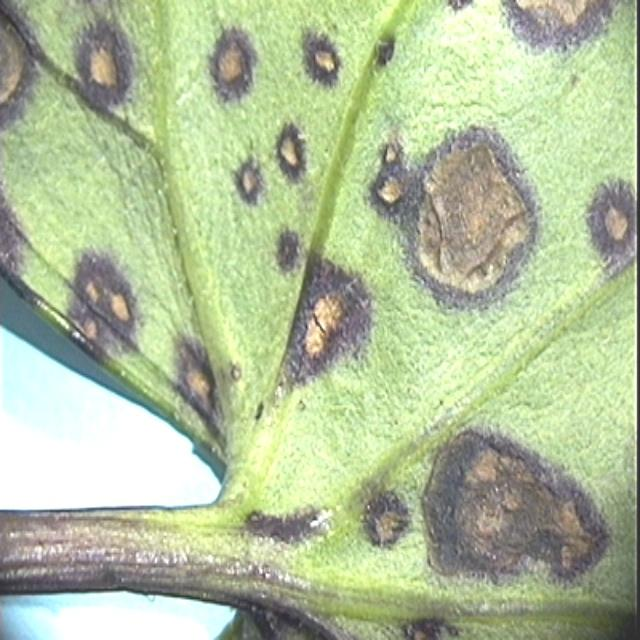leaf_spot: (1, 3, 637, 633)
